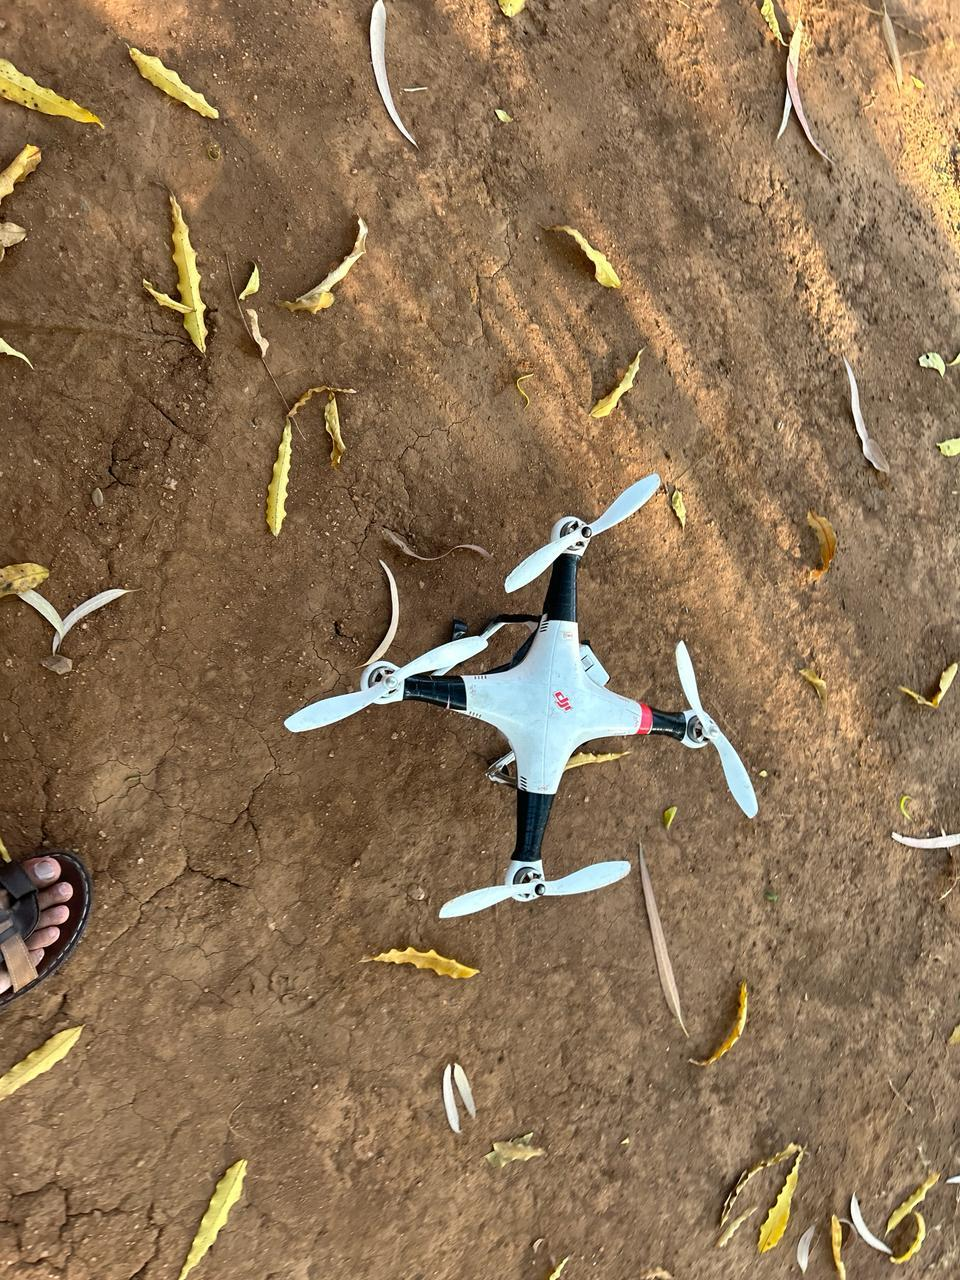drone: (161, 344, 890, 1079)
